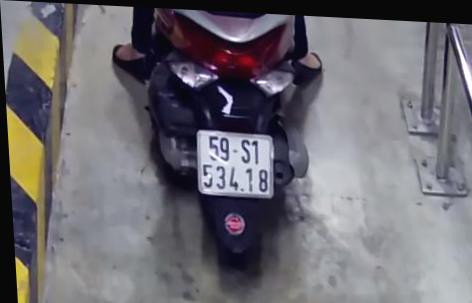License_Plate: (187, 124, 287, 207)
